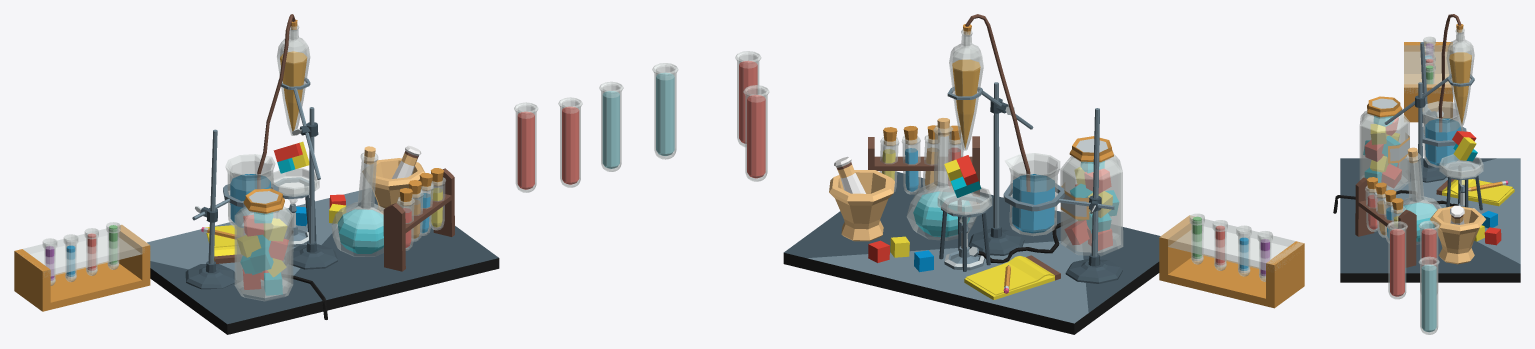
The model's file is alat alat.fbx.
The picture shows the model from 3 angles, left to right: view 1: azimuth 30°, elevation 25°; view 2: azimuth 150°, elevation 25°; view 3: azimuth 270°, elevation 25°; orthographic projection. The views are drawn at different scales.
Parts seen in each view (by area): view 1: group4803696, group1888901795, group1466635588, group396116694.001, group396116694.003, group396116694, group1930054553, group463301023, group458924257, group1699342119, group902564457, group1215768112; view 2: group4803696, group1888901795, group1466635588, group396116694.001, group396116694, group1930054553, group463301023, group396116694.003, group902564457, group1699342119, group458924257, group1215768112; view 3: group4803696, group396116694.003, group396116694, group1888901795, group463301023, group1930054553, group396116694.001, group1466635588, group902564457.
Part boxes in pixels (box(x1,y1,x2,y2)): group4803696: box(147, 14, 499, 334); group1888901795: box(23, 225, 148, 276); group1466635588: box(16, 261, 150, 311); group396116694.001: box(514, 102, 538, 192); group396116694.003: box(558, 97, 582, 187); group396116694: box(599, 81, 623, 171); group1930054553: box(14, 249, 50, 310); group463301023: box(118, 225, 150, 286); group458924257: box(63, 234, 78, 281); group1699342119: box(84, 228, 98, 275); group902564457: box(106, 222, 120, 269); group1215768112: box(42, 238, 57, 285); group4803696: box(783, 14, 1160, 334); group1888901795: box(1160, 215, 1303, 270); group1466635588: box(1168, 254, 1304, 308); group396116694.001: box(743, 85, 769, 181); group396116694: box(652, 63, 678, 159); group1930054553: box(1266, 241, 1304, 307); group463301023: box(1159, 215, 1193, 282); group396116694.003: box(735, 51, 761, 146); group902564457: box(1189, 213, 1204, 264); group1699342119: box(1212, 220, 1227, 270); group458924257: box(1236, 225, 1251, 276); group1215768112: box(1257, 231, 1272, 281); group4803696: box(1333, 14, 1520, 282); group396116694.003: box(1387, 221, 1407, 299); group396116694: box(1418, 256, 1439, 334); group1888901795: box(1404, 45, 1451, 93); group463301023: box(1404, 84, 1452, 122); group1930054553: box(1404, 42, 1452, 73); group396116694.001: box(1418, 220, 1439, 293); group1466635588: box(1404, 74, 1449, 122); group902564457: box(1425, 63, 1435, 84).
Bounding box in the file's own units: 524 × 207 × 165.
